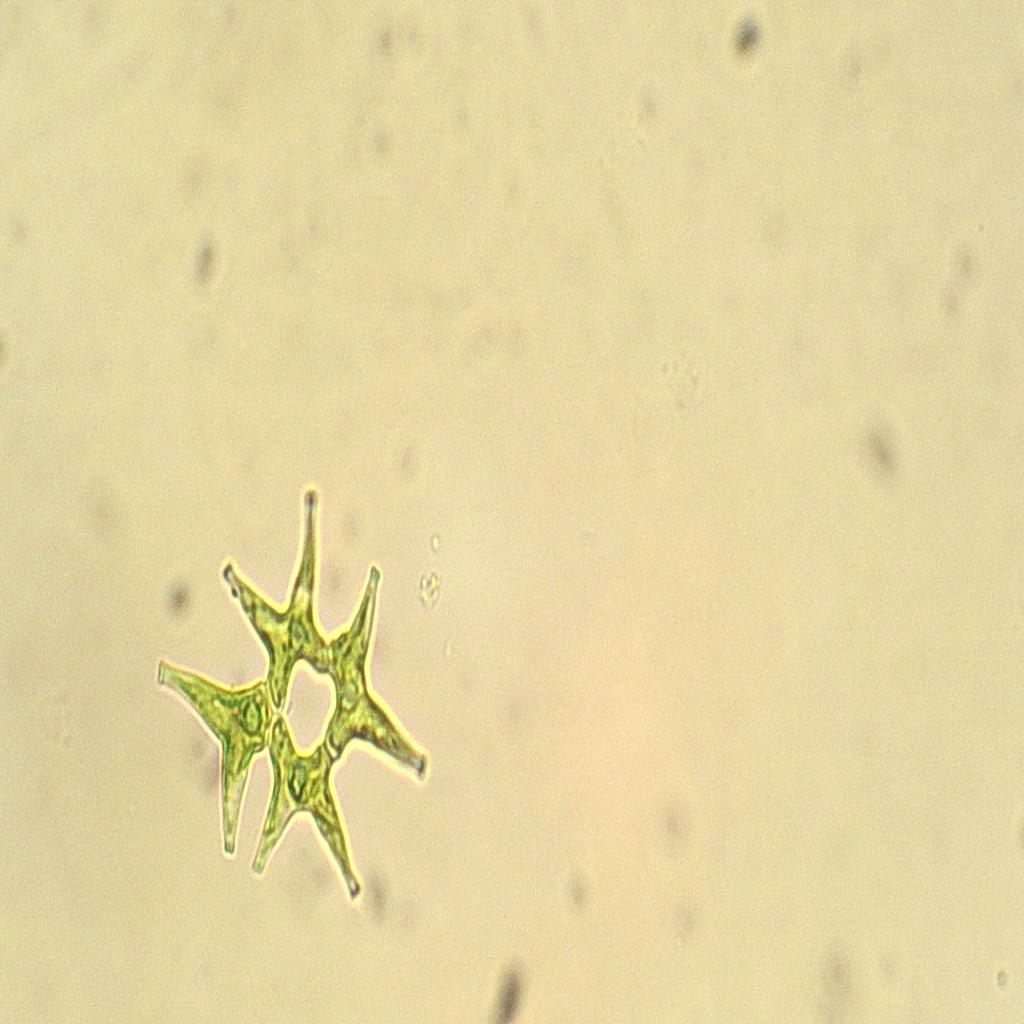Pediastrum_75FI: (152, 462, 456, 918)
